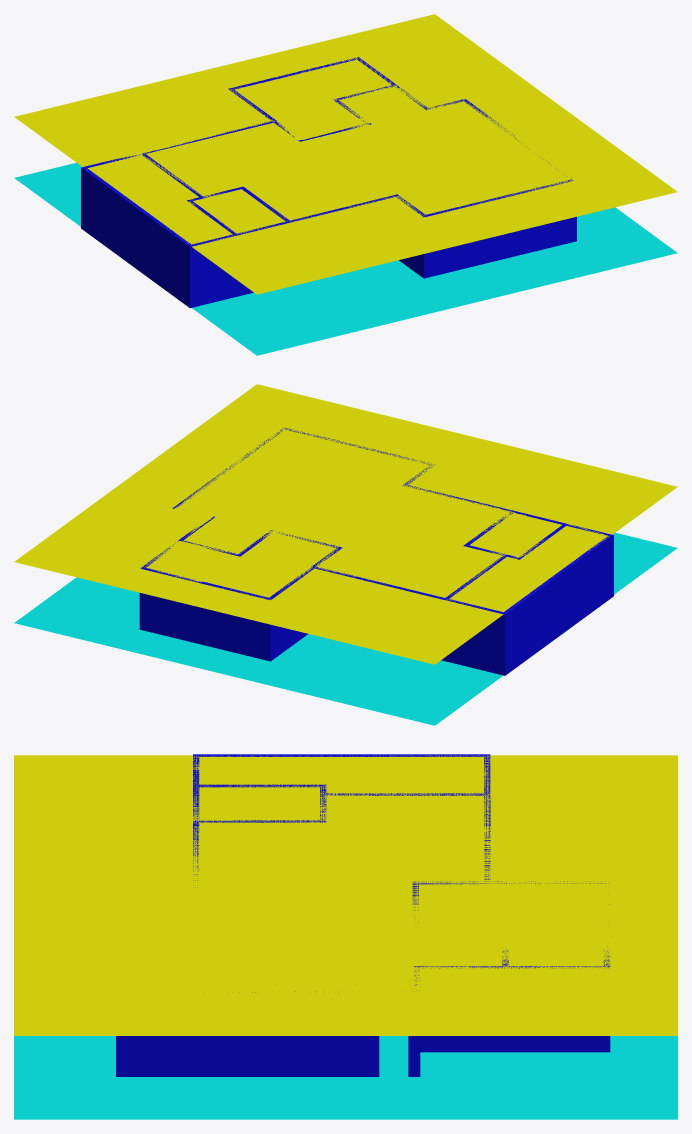
The model's file is ENV_oysterbar_v000.fbx.
The picture shows the model from 3 angles, top to bottom: view 1: azimuth 30°, elevation 25°; view 2: azimuth 150°, elevation 25°; view 3: azimuth 270°, elevation 25°; orthographic projection. The views are drawn at different scales.
Visible parts, largest first — view 1: pPlane29, pPlane28, pPlane27; view 2: pPlane29, pPlane28, pPlane27; view 3: pPlane29, pPlane28, pPlane27.
Part boxes in pixels (x1=…): pPlane29: x1=14, y1=14, x2=677, y2=294; pPlane28: x1=14, y1=162, x2=677, y2=355; pPlane27: x1=81, y1=57, x2=576, y2=307; pPlane29: x1=14, y1=384, x2=677, y2=664; pPlane28: x1=14, y1=532, x2=677, y2=725; pPlane27: x1=139, y1=428, x2=613, y2=675; pPlane29: x1=14, y1=755, x2=677, y2=1035; pPlane28: x1=14, y1=1036, x2=677, y2=1119; pPlane27: x1=116, y1=754, x2=610, y2=1076.
Bounding box in the file's own units: 699 × 96.61 × 697.
